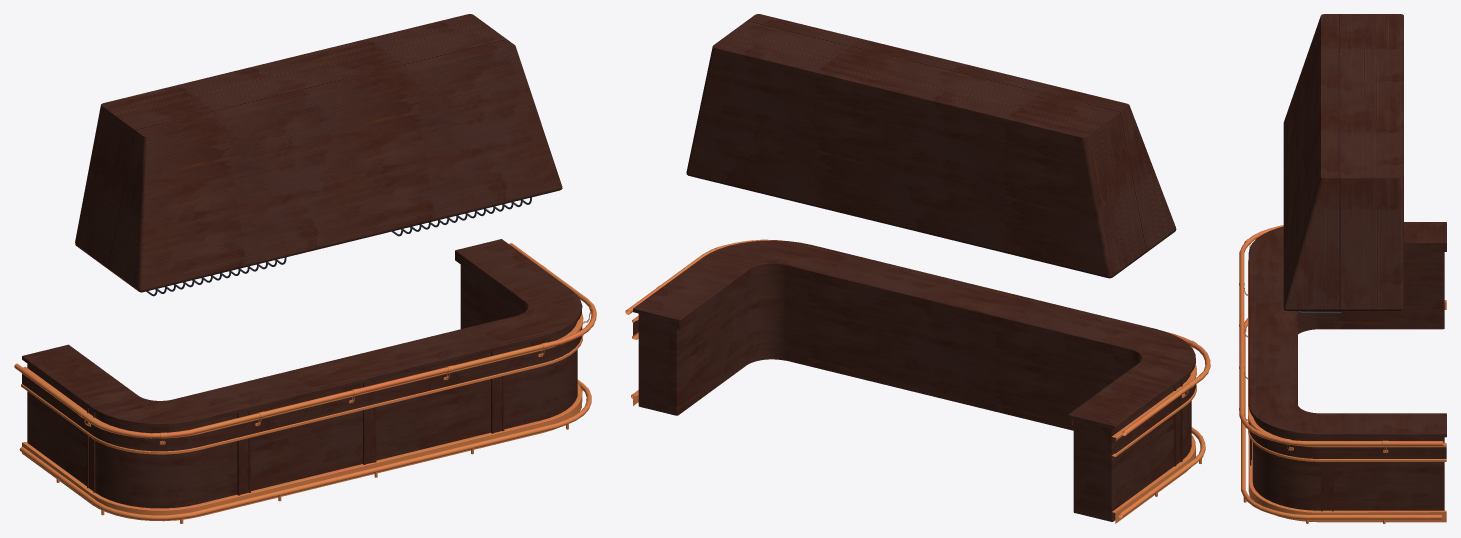
File: Mesh_bar.fbx
3 renders of one model, left to right at view 1: azimuth 30°, elevation 25°; view 2: azimuth 150°, elevation 25°; view 3: azimuth 270°, elevation 25°, orthographic. The views are drawn at different scales.
Visible parts, largest first — view 1: rebords_bar81; view 2: rebords_bar81; view 3: rebords_bar81.
Part boxes in pixels (x1,y1,x2,y2): rebords_bar81: (14, 14, 596, 523); rebords_bar81: (625, 14, 1210, 523); rebords_bar81: (1239, 14, 1446, 523).
Size of the model in its own units: 533 by 360 by 212.
Materials: 4 (3 with a texture image).
